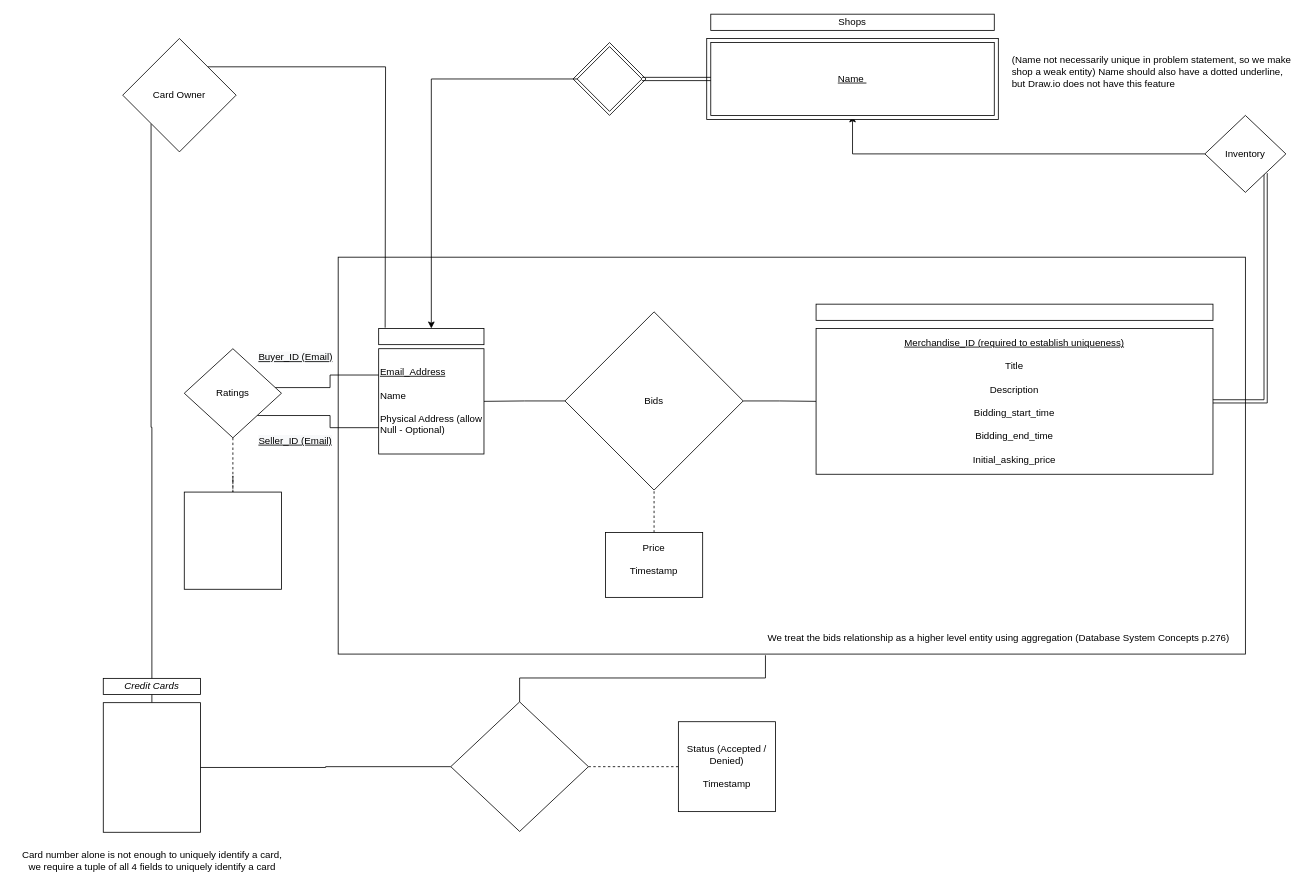
This 1307x887 diagram has some shape labels left out. The centre of each missing label's shape, as x and y in pixels:
Buyer Rating Seller Rating Timestamp Text Review: point 232,540
Card Number Card Name Expiry Date CCV: point 151,767
Merchandise: point 1014,311
Owner: point 609,78
Payments: point 519,766
User: point 431,336
